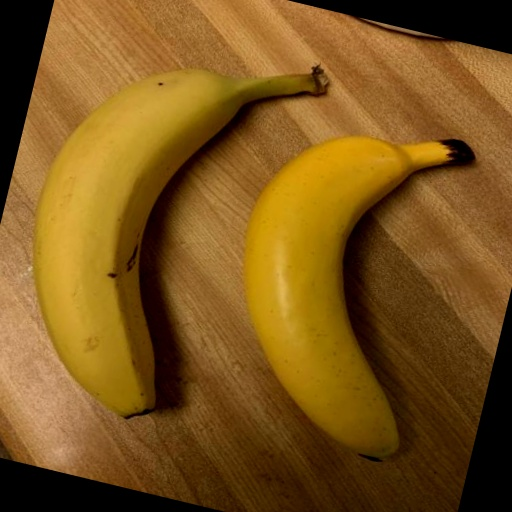fruit: (75, 90, 412, 467), (0, 81, 100, 432)
